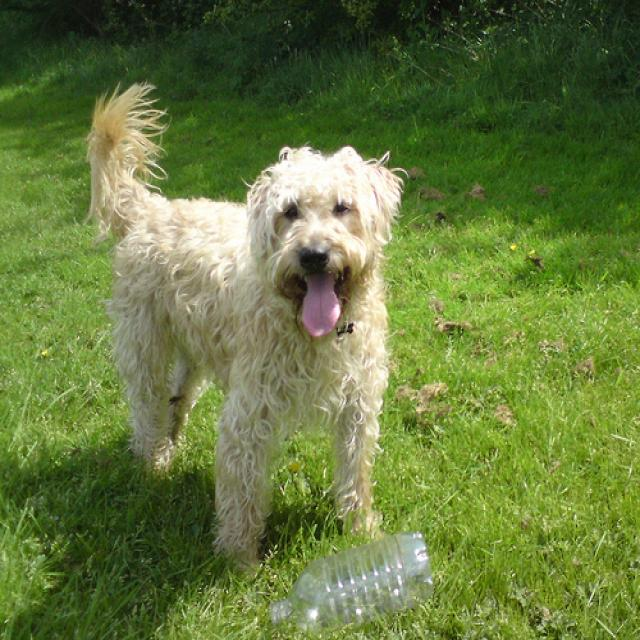dog-wheaten_terrier: (73, 75, 411, 576)
